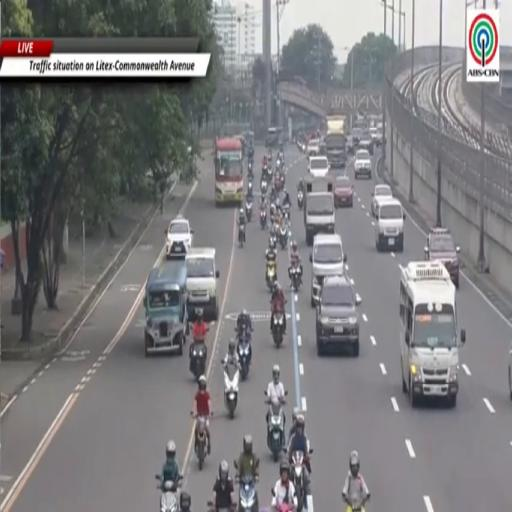bus: (400, 262, 465, 406), (215, 138, 243, 205)
car: (316, 276, 360, 357), (424, 228, 459, 289), (375, 198, 405, 252), (166, 216, 193, 259), (371, 185, 392, 216), (334, 174, 353, 207), (354, 150, 371, 179), (309, 156, 329, 178), (358, 131, 373, 154), (351, 127, 362, 148), (307, 139, 320, 156), (370, 126, 380, 146), (508, 345, 511, 401)
motorcycle: (265, 391, 285, 461), (191, 412, 208, 470), (156, 475, 182, 511), (291, 452, 306, 511), (224, 365, 239, 419), (237, 475, 258, 511), (237, 334, 251, 380), (190, 342, 206, 380), (272, 311, 284, 348), (289, 265, 302, 291), (266, 261, 276, 291), (279, 222, 288, 249), (345, 499, 365, 511), (276, 498, 294, 511), (238, 224, 245, 247), (246, 200, 253, 221), (283, 203, 290, 223), (260, 208, 266, 229), (298, 190, 303, 210), (261, 180, 267, 196), (280, 172, 285, 189), (270, 233, 276, 246), (276, 157, 282, 170), (248, 162, 253, 177)
truck: (304, 174, 335, 246), (324, 116, 347, 168)
